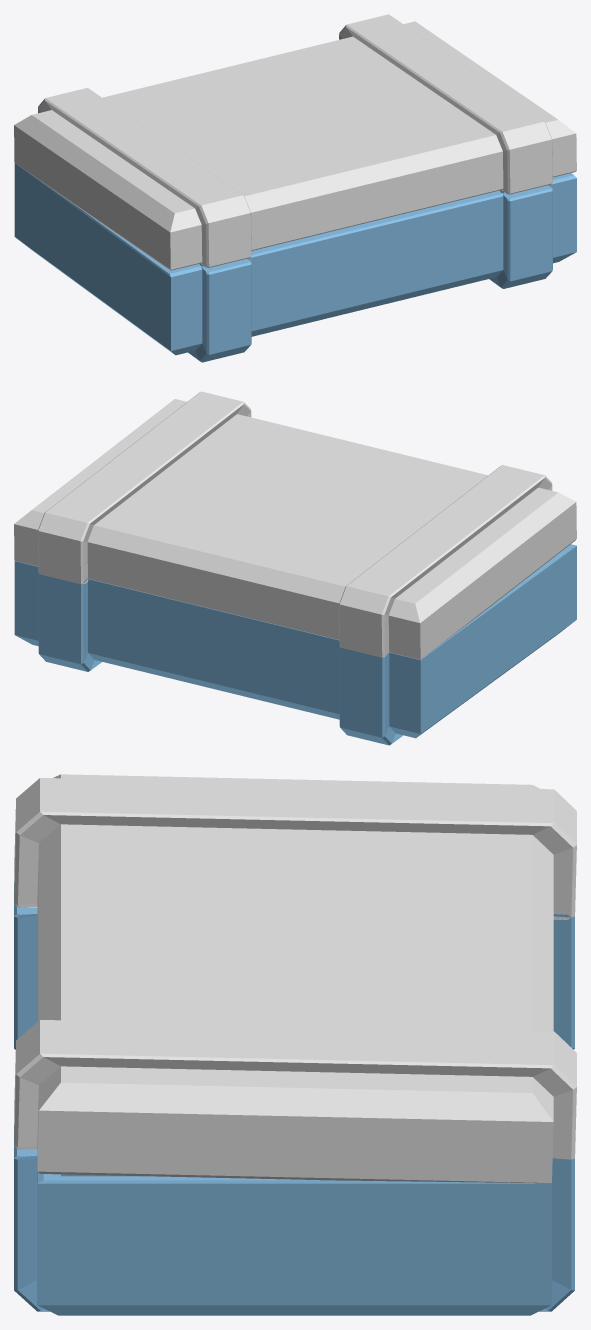
Rendered from toolbox.glb.
The picture shows the model from 3 angles, top to bottom: view 1: azimuth 30°, elevation 25°; view 2: azimuth 150°, elevation 25°; view 3: azimuth 270°, elevation 25°; orthographic projection. The views are drawn at different scales.
Parts seen in each view (by area): view 1: Lid, base; view 2: Lid, base; view 3: Lid, base.
Part boxes in pixels (<box>): Lid: <box>14,14,576,270</box>; base: <box>14,163,576,362</box>; Lid: <box>14,391,576,659</box>; base: <box>14,544,576,745</box>; Lid: <box>14,774,576,1183</box>; base: <box>14,883,574,1315</box>.
Size of the model in its own units: 3.6 by 1.33 by 2.62.
